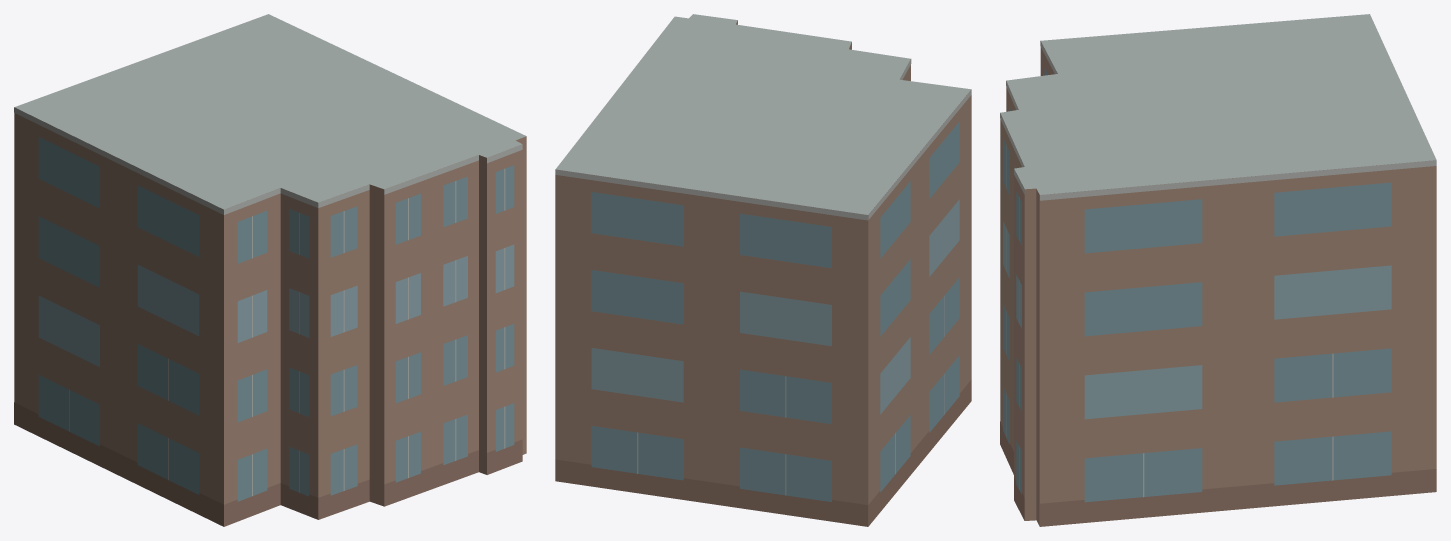
File: survey-upis-32894544.glb
3 views of the same model, side by side, from view 1: azimuth 30°, elevation 25°; view 2: azimuth 150°, elevation 25°; view 3: azimuth 270°, elevation 25° (orthographic). The views are drawn at different scales.
Parts seen in each view (by area): view 1: survey-upis-32894544.tmp; view 2: survey-upis-32894544.tmp; view 3: survey-upis-32894544.tmp.
Part boxes in pixels (x1=…): survey-upis-32894544.tmp: x1=14, y1=14, x2=526, y2=526; survey-upis-32894544.tmp: x1=555, y1=14, x2=971, y2=526; survey-upis-32894544.tmp: x1=1000, y1=14, x2=1436, y2=526.
Size of the model in its own units: 16.45 by 14.05 by 16.76.
